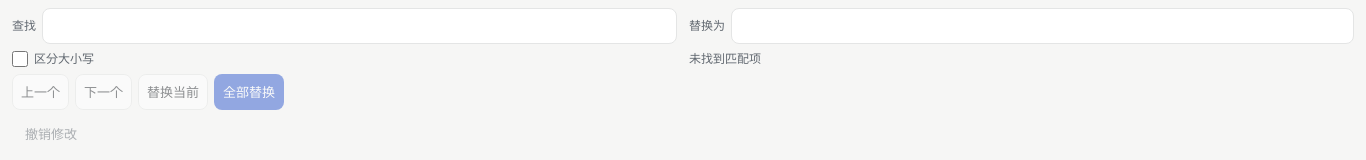
Test: SearchReplacePanel › exposes labelled literal search and live cyclic navigation status
Step 1. Type "a.b" into the field labelled "查找" → (360, 26), box [42, 8, 677, 44]
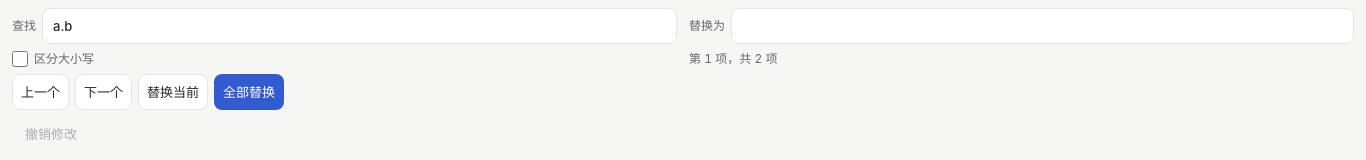
Expected: the message "第 1 项，共 2 项" is shown, [689, 51, 778, 66]
Step 2. Click the button "上一个" → (40, 92), box [12, 74, 69, 110]
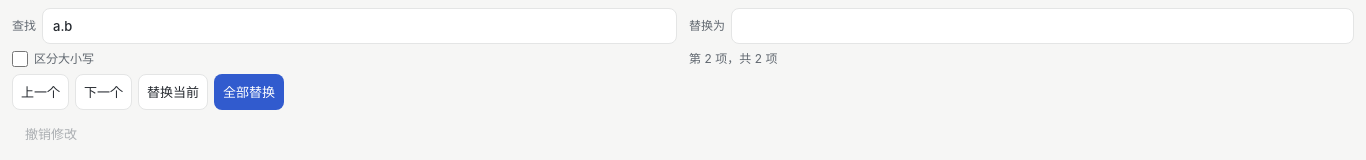
Expected: the message "第 2 项，共 2 项" is shown, [689, 51, 778, 66]
Step 3. Click the button "下一个" → (104, 92), box [75, 74, 132, 110]
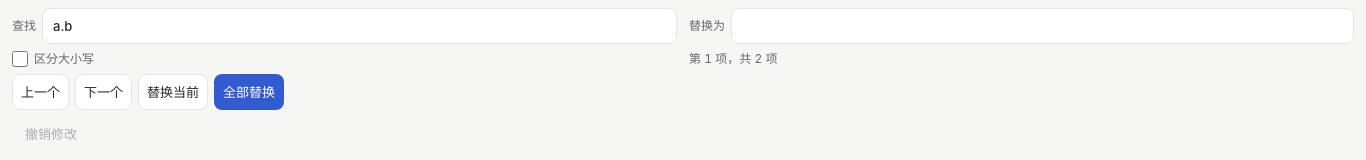
Expected: the message "第 1 项，共 2 项" is shown, [689, 51, 778, 66]
